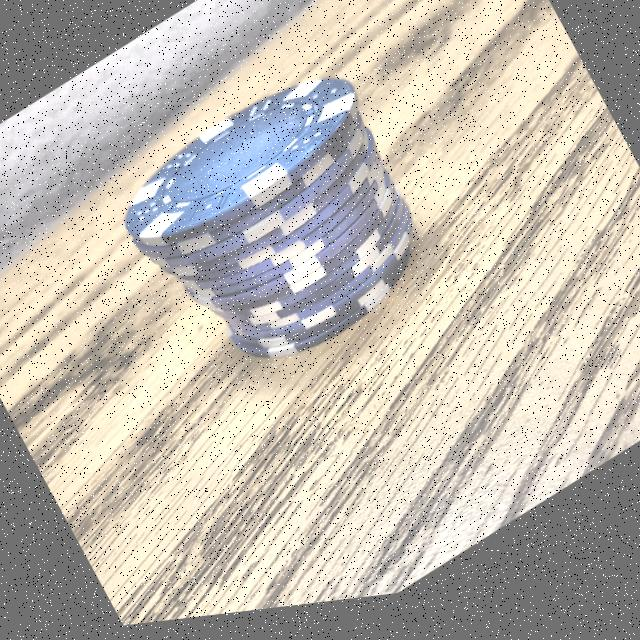Chip: (91, 27, 467, 429)
